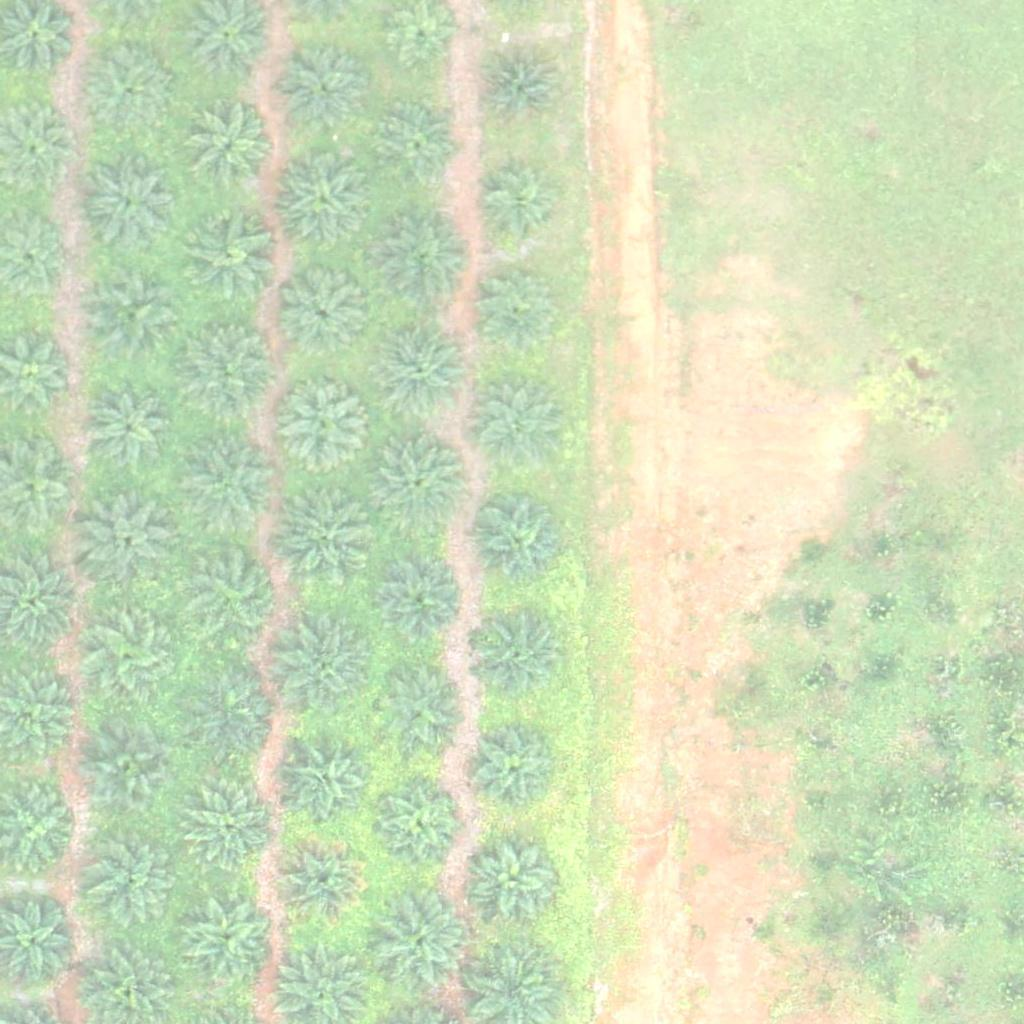Kelapa_Sawit: (83, 263, 183, 364), (178, 316, 278, 417), (183, 437, 283, 538), (274, 376, 374, 477), (273, 487, 373, 588), (274, 620, 374, 721), (376, 321, 476, 422), (369, 432, 469, 533), (468, 491, 568, 592), (178, 891, 278, 992), (84, 827, 184, 928), (372, 210, 472, 310), (272, 149, 372, 249), (178, 206, 278, 306), (78, 153, 178, 253), (77, 485, 177, 585), (186, 546, 286, 646), (185, 666, 285, 766), (368, 893, 468, 993), (280, 272, 368, 361), (474, 165, 562, 253), (377, 102, 465, 190), (278, 46, 366, 134), (85, 386, 173, 474), (84, 608, 172, 696), (87, 727, 175, 815), (374, 556, 462, 644), (476, 612, 564, 700), (472, 726, 560, 814), (473, 836, 561, 924), (187, 783, 275, 871), (478, 46, 565, 134), (186, 105, 273, 193), (86, 54, 173, 142), (378, 668, 465, 756), (474, 266, 561, 354), (474, 381, 561, 469), (283, 740, 370, 828), (375, 779, 462, 867), (279, 837, 366, 925)
